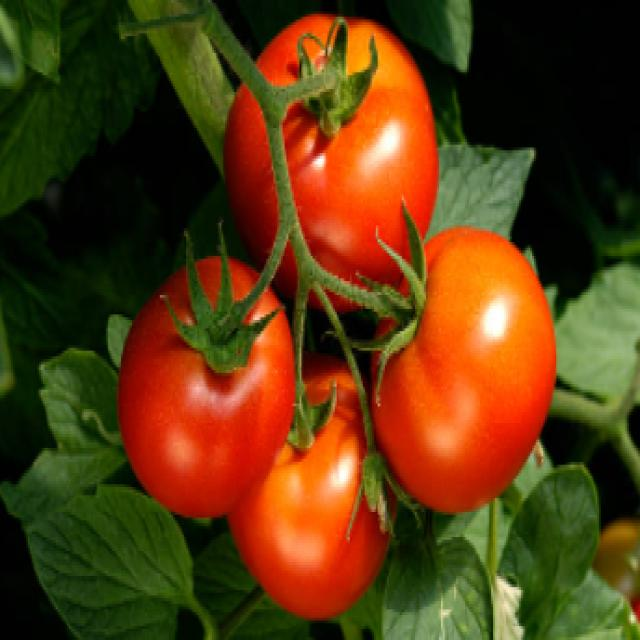Tomato: (240, 5, 438, 322), (123, 240, 309, 518)
